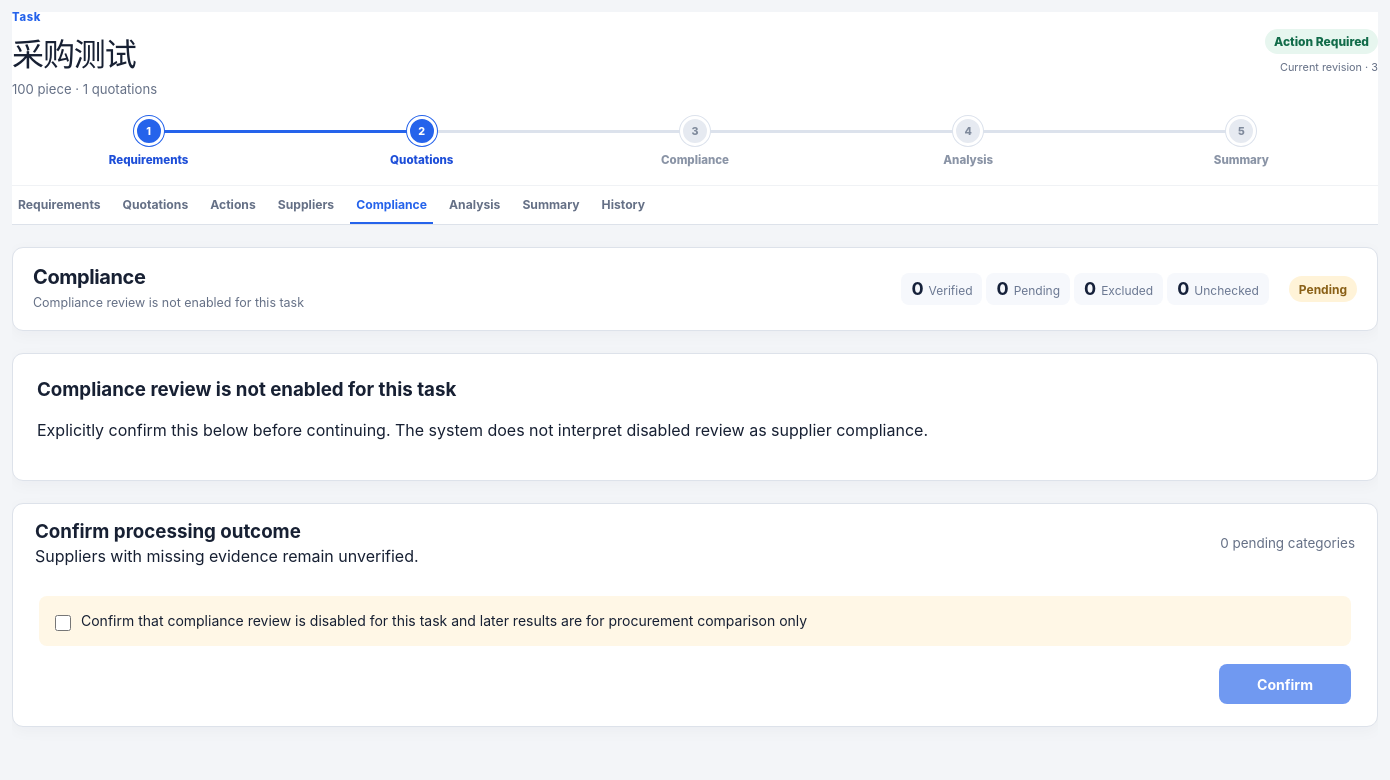
Scenario: no policy requires explicit acknowledgement before continuing
Expected: the button "Confirm" is disabled, [1219,664,1351,704]
Click the checkbox labelled "Confirm that compliance review is disabled for this task": (63, 623) [55,615,71,631]
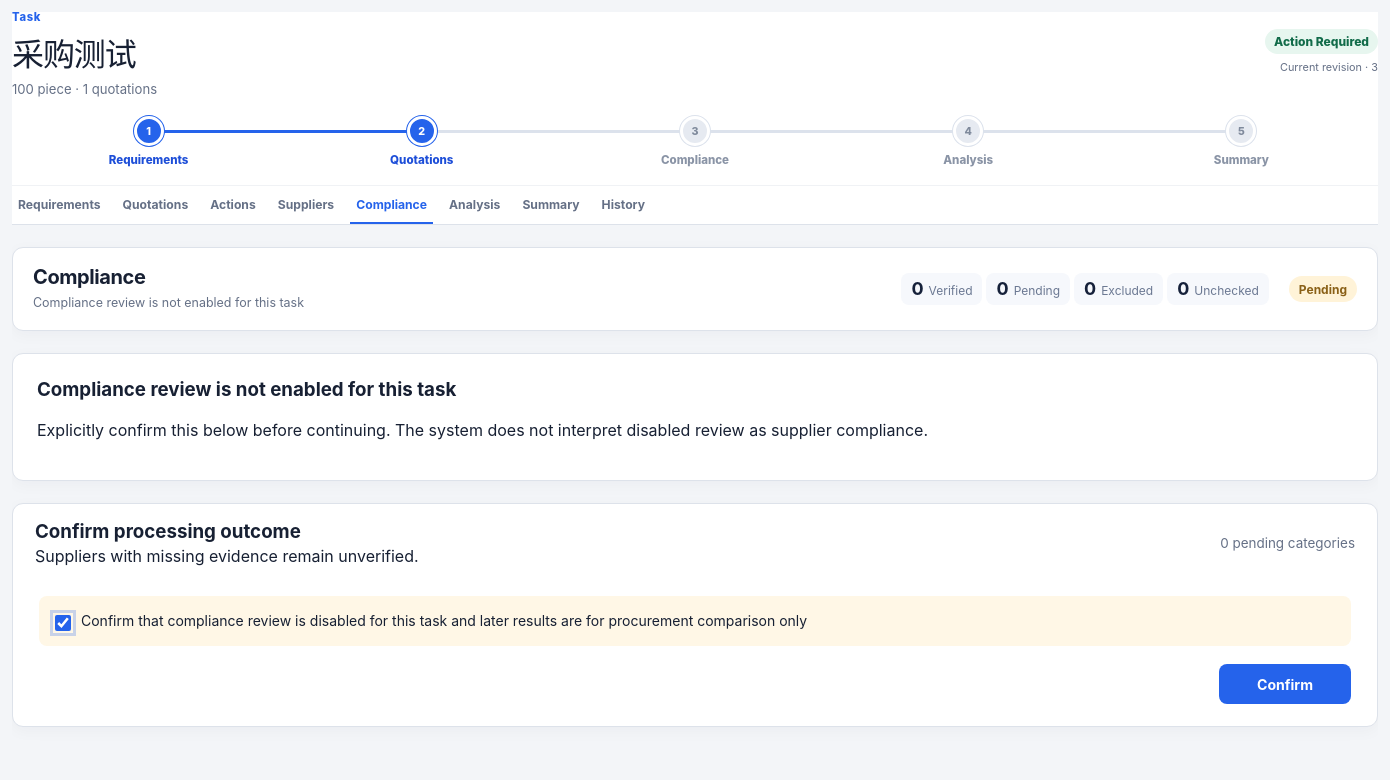
Result: the button "Confirm" is enabled at [1219,664,1351,704]
